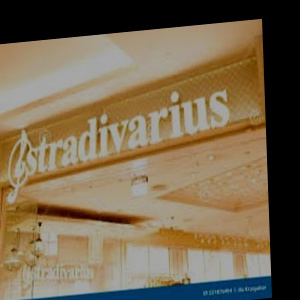stradivarius: (17, 106, 266, 163)
